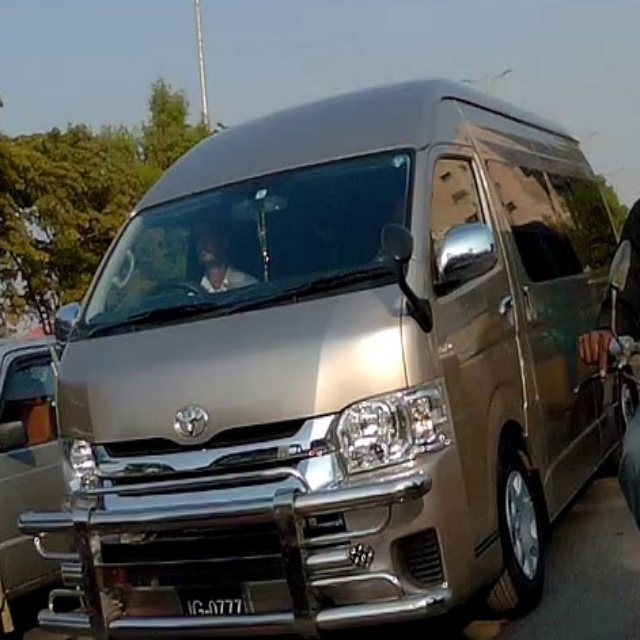Van: (16, 75, 622, 640)
